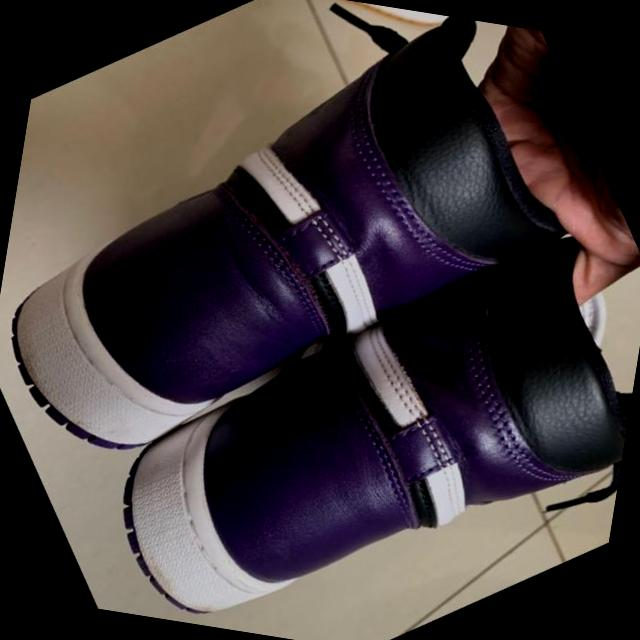nike_original_jordan: (0, 0, 603, 541), (43, 137, 640, 640)
